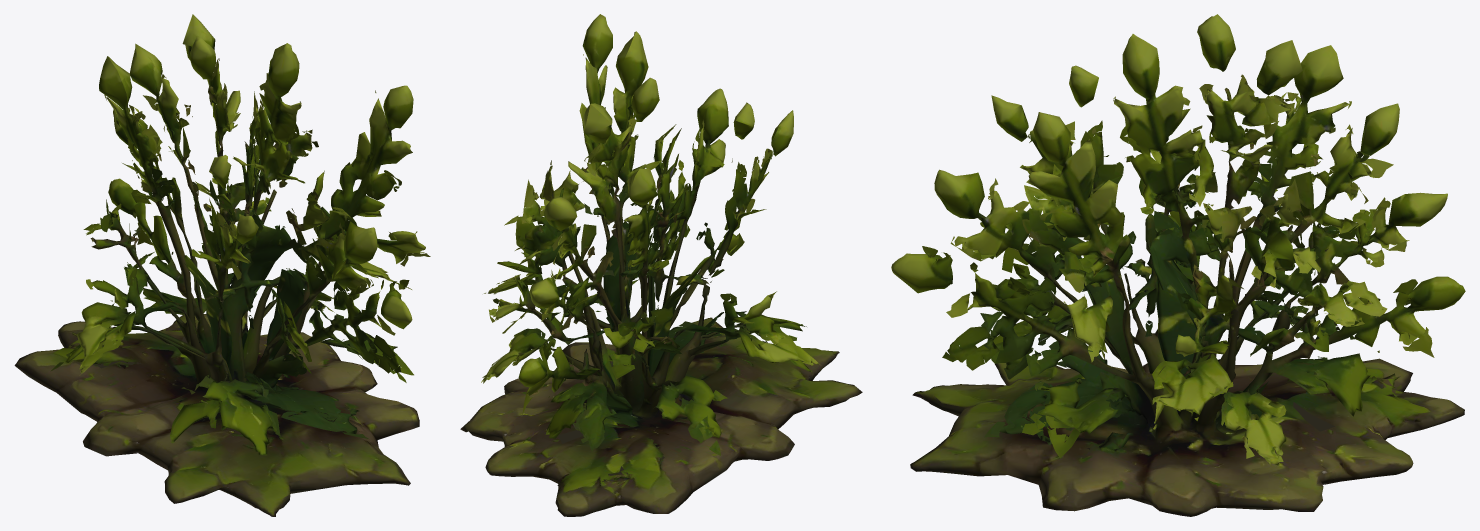
The model's file is SM_Vegetacion_PlantaEstilizada_01.fbx.
3 renders of one model, left to right at view 1: azimuth 30°, elevation 25°; view 2: azimuth 150°, elevation 25°; view 3: azimuth 270°, elevation 25°, orthographic. The views are drawn at different scales.
Visible parts, largest first — view 1: SM_Vegetacion_PlantaEstilizada_01; view 2: SM_Vegetacion_PlantaEstilizada_01; view 3: SM_Vegetacion_PlantaEstilizada_01.
Boxes of the visible parts, x1,y1,x2,y2 form: SM_Vegetacion_PlantaEstilizada_01: [14, 14, 430, 516]; SM_Vegetacion_PlantaEstilizada_01: [460, 14, 862, 516]; SM_Vegetacion_PlantaEstilizada_01: [891, 14, 1465, 516].
Bounding box in the file's own units: 0.7239 × 0.7831 × 0.9582.
1 material, 1 textured.
